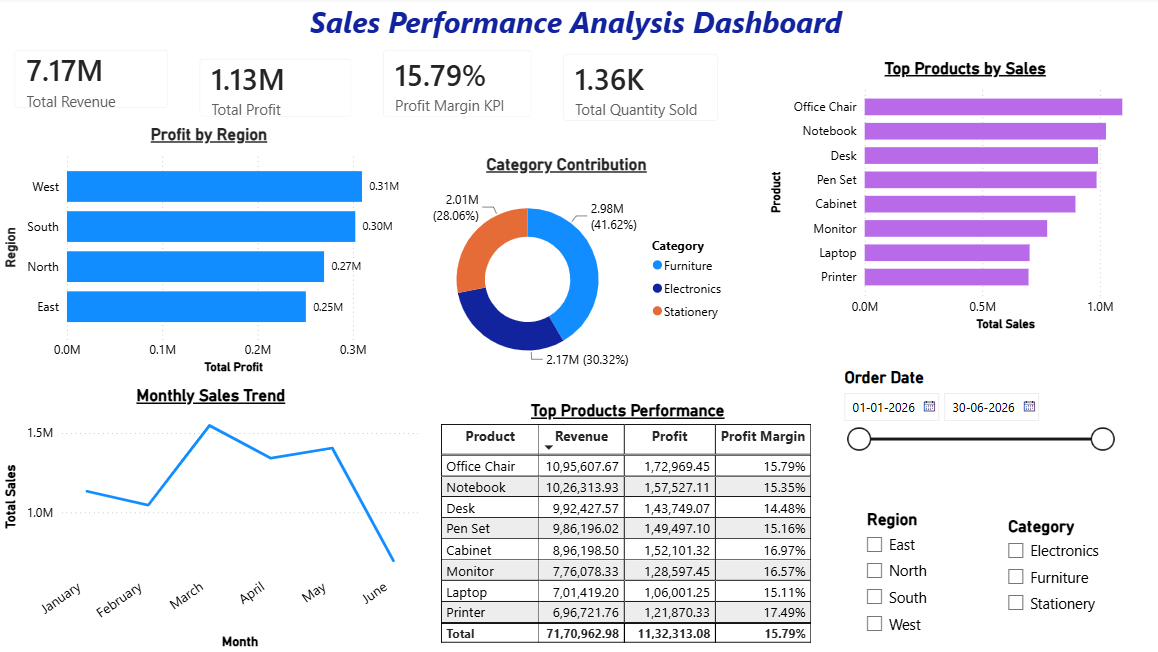

The dashboard page shown, as its layout file describes it:
{"tool":"powerbi","page":{"name":"Management Dashboard","canvas":[1280,720],"ordinal":0},"visuals":[{"type":"cardVisual","fields":{"Data":["SalesData.Total Revenue"]},"box":[0,41.2,203.1,98.8],"z":0},{"type":"cardVisual","fields":{"Data":["SalesData.Profit Margin KPI"]},"box":[404.8,41.2,197.6,108.4],"z":1000},{"type":"cardVisual","fields":{"Data":["SalesData.Total Quantity Sold"]},"box":[602.4,45.3,204.5,108.4],"z":2000},{"type":"cardVisual","fields":{"Data":["SalesData.Total Profit"]},"box":[203.1,50.8,201.7,98.8],"z":3000},{"type":"clusteredBarChart","title":"Profit by Region","fields":{"Category":["SalesData.Region"],"Y":["SalesData.Total Profit"]},"box":[0,140,461.1,278.6],"z":4000},{"type":"donutChart","title":"Category Contribution","fields":{"Y":["SalesData.Total Revenue"],"Category":["SalesData.Category"]},"box":[439.1,172.9,367.8,253.9],"z":5000},{"type":"tableEx","title":"Top Products Performance","fields":{"Values":["SalesData.Product","SalesData.Total Revenue","SalesData.Total Profit","SalesData.Profit Margin KPI"]},"box":[478.9,443.2,422.6,277.2],"z":6000},{"type":"lineChart","title":"Monthly Sales Trend","fields":{"Category":["Data.Order_Date.Variation.Date Hierarchy.Month"],"Y":["Sum(Data.Total Sales)"]},"box":[0,426.8,465.2,293.7],"z":7000},{"type":"clusteredBarChart","title":"Top Products by Sales","fields":{"Category":["Data.Product"],"Y":["Sum(Data.Total Sales)"]},"box":[841.2,67.2,439.1,303.3],"z":8000},{"type":"slicer","fields":{"Values":["Data.Region"]},"box":[940,558.5,134.5,155.1],"z":9000},{"type":"slicer","fields":{"Values":["Data.Order_Date"]},"box":[915.3,402.1,317,156.4],"z":10000},{"type":"slicer","fields":{"Values":["Data.Category"]},"box":[1095,565.4,146.8,155.1],"z":11000},{"type":"textbox","box":[326.6,0,613.4,54.9],"z":12000}]}

Visuals, with their boxes in screenshot pixels (x1, y1, x2, y2), scaled from the page's 1280x720 canvas onto the 1158x652 screenshot:
cardVisual - SalesData.Total Revenue: {"left": 0, "top": 37, "right": 184, "bottom": 127}
cardVisual - SalesData.Profit Margin KPI: {"left": 366, "top": 37, "right": 545, "bottom": 135}
cardVisual - SalesData.Total Quantity Sold: {"left": 545, "top": 41, "right": 730, "bottom": 139}
cardVisual - SalesData.Total Profit: {"left": 184, "top": 46, "right": 366, "bottom": 135}
"Profit by Region" clusteredBarChart: {"left": 0, "top": 127, "right": 417, "bottom": 379}
"Category Contribution" donutChart: {"left": 397, "top": 157, "right": 730, "bottom": 386}
"Top Products Performance" tableEx: {"left": 433, "top": 401, "right": 816, "bottom": 651}
"Monthly Sales Trend" lineChart: {"left": 0, "top": 386, "right": 421, "bottom": 651}
"Top Products by Sales" clusteredBarChart: {"left": 761, "top": 61, "right": 1157, "bottom": 336}
slicer - Data.Region: {"left": 850, "top": 506, "right": 972, "bottom": 646}
slicer - Data.Order_Date: {"left": 828, "top": 364, "right": 1115, "bottom": 506}
slicer - Data.Category: {"left": 991, "top": 512, "right": 1123, "bottom": 651}
textbox: {"left": 295, "top": 0, "right": 850, "bottom": 50}
